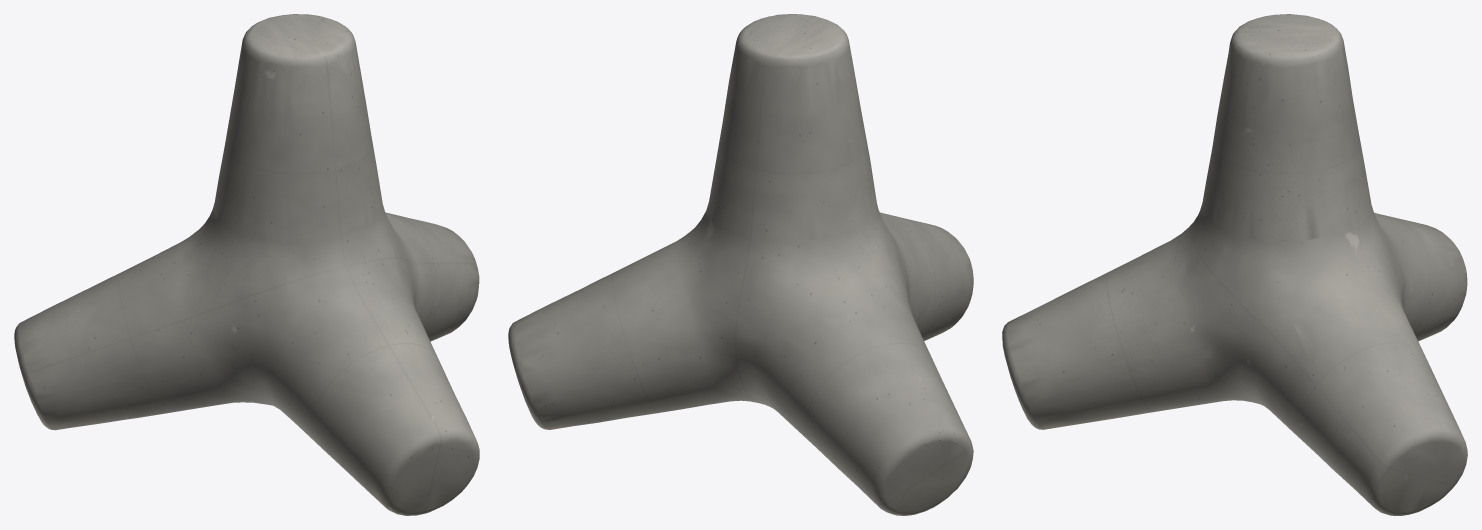
The model's file is Tetrapod_A.gltf.
3 renders of one model, left to right at view 1: azimuth 30°, elevation 25°; view 2: azimuth 150°, elevation 25°; view 3: azimuth 270°, elevation 25°, orthographic.
Parts seen in each view (by area): view 1: Tetrapod_A; view 2: Tetrapod_A; view 3: Tetrapod_A.
Boxes of the visible parts, x1,y1,x2,y2 form: Tetrapod_A: [14, 14, 479, 515]; Tetrapod_A: [508, 14, 973, 515]; Tetrapod_A: [1002, 14, 1467, 515].
Size of the model in its own units: 2.11 by 1.74 by 1.88.
1 material, 1 textured.
